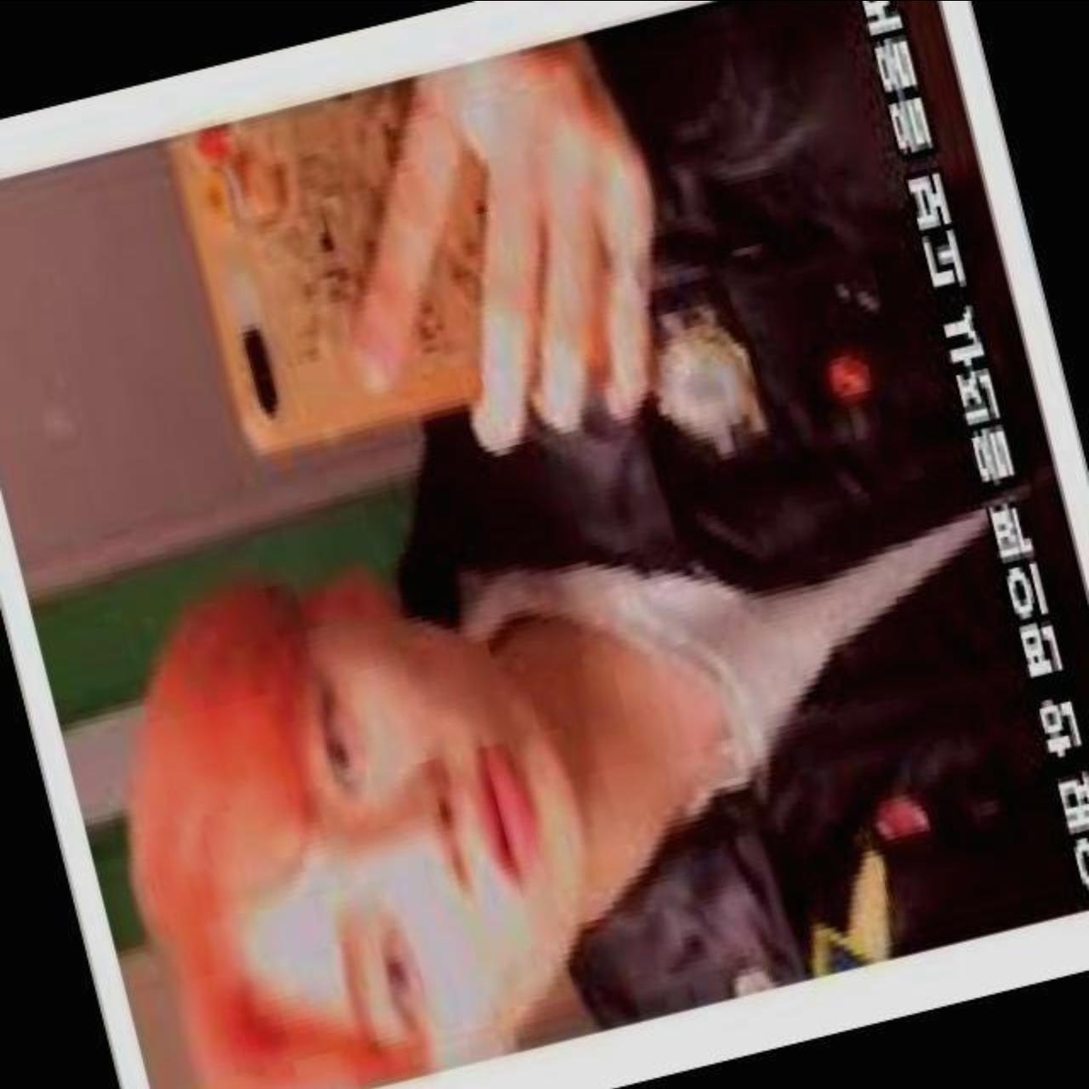phone: (163, 46, 619, 471)
